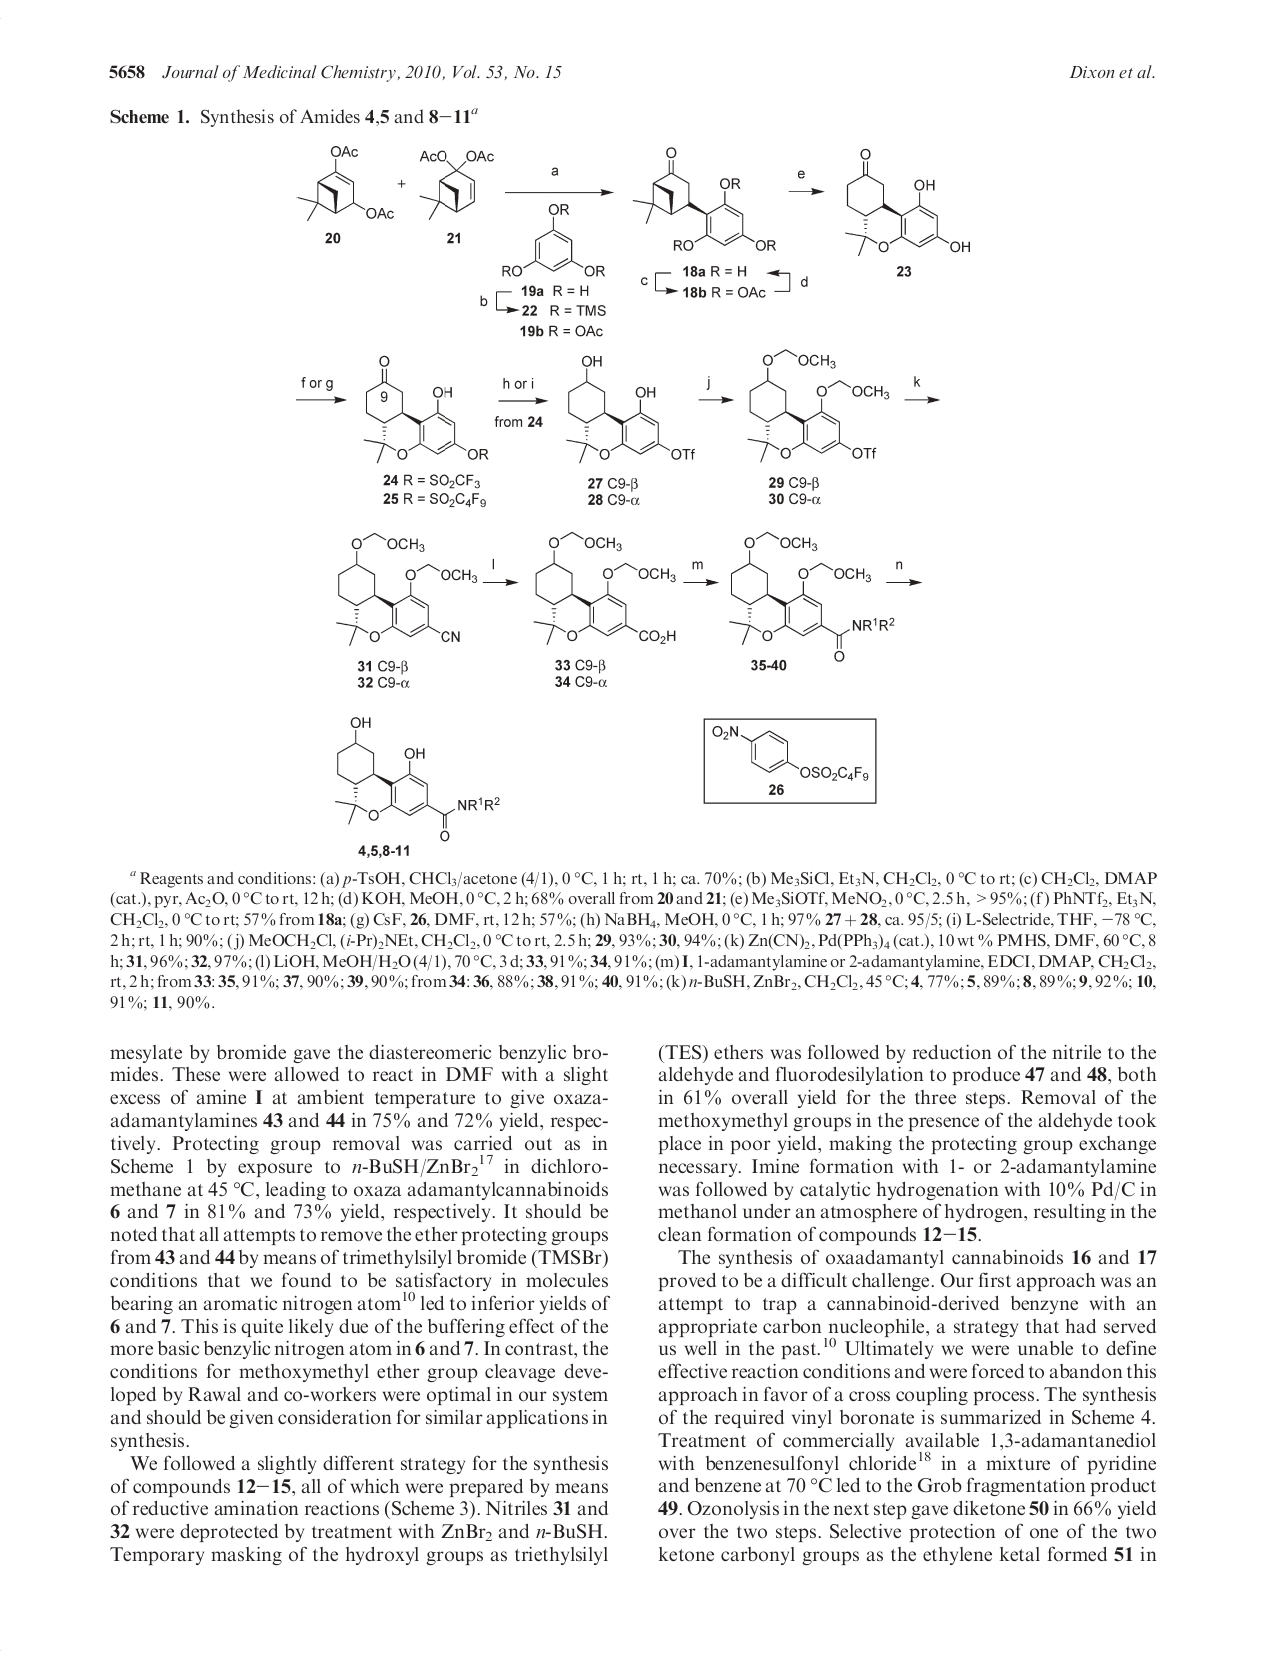exist_molecular: (727, 531, 898, 664), (332, 714, 500, 842), (745, 347, 891, 464), (532, 528, 678, 644), (334, 531, 477, 645), (632, 148, 781, 257), (563, 352, 696, 467), (844, 144, 977, 255), (363, 354, 491, 468), (709, 723, 872, 785), (496, 199, 608, 281), (293, 144, 395, 227), (418, 150, 495, 223)
